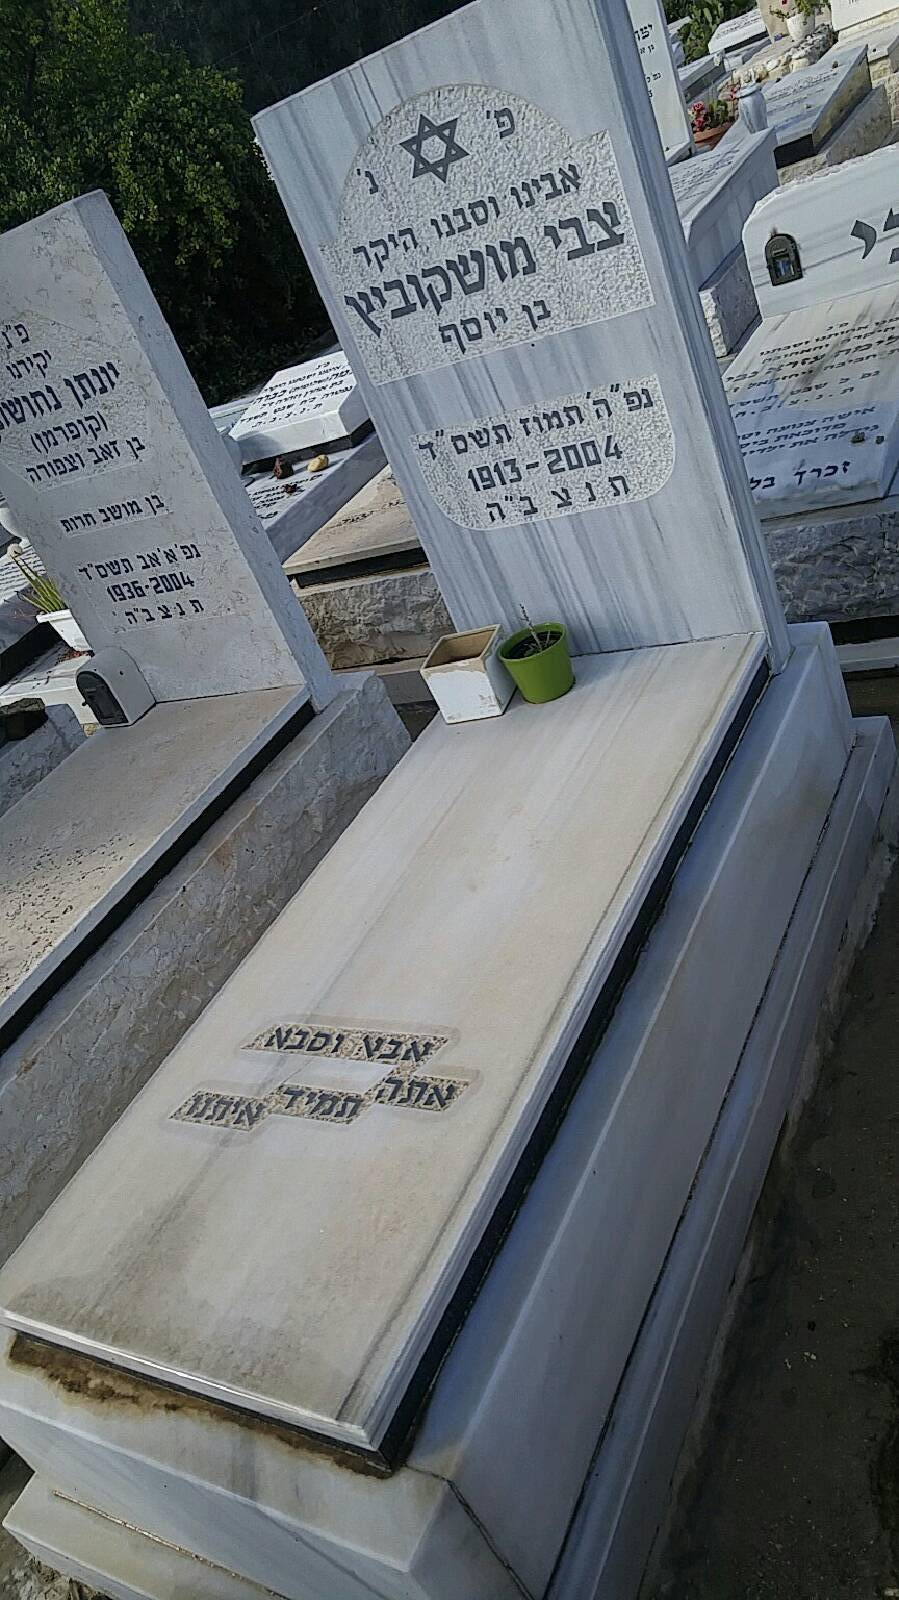vault: (0, 12, 857, 1595)
